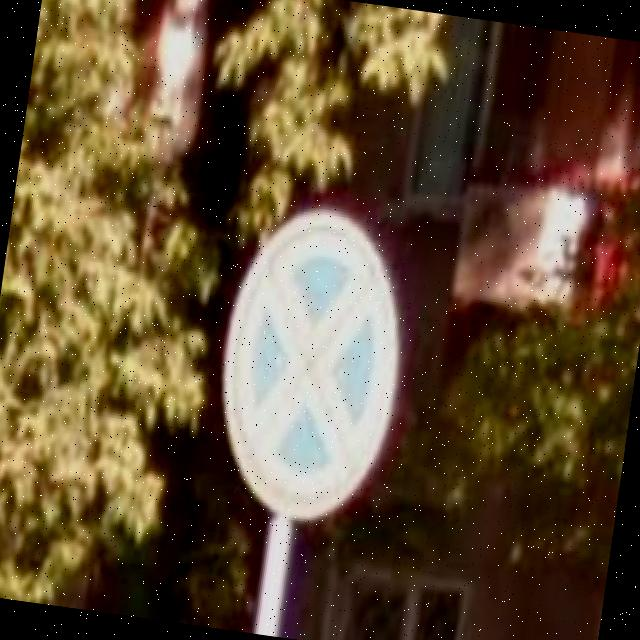Zakaz zatrzymywania sie: (200, 195, 422, 532)
